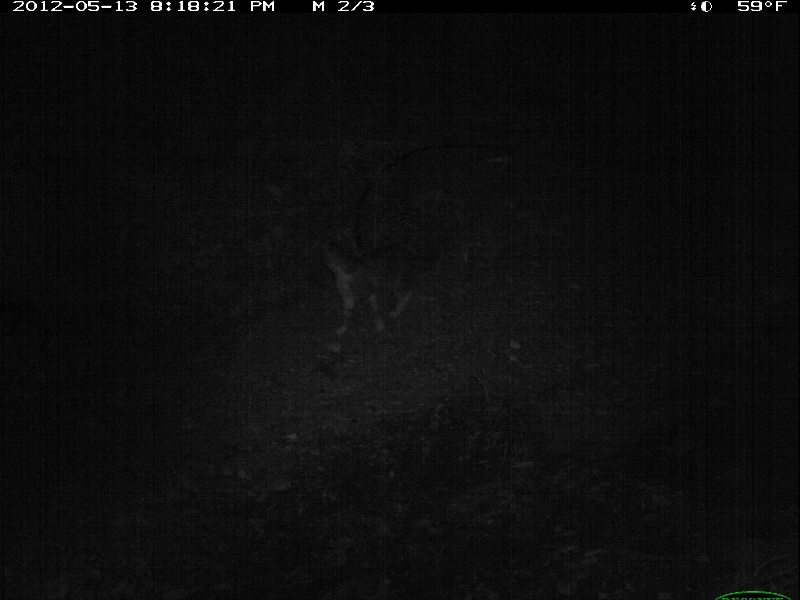cat: (318, 233, 444, 329)
